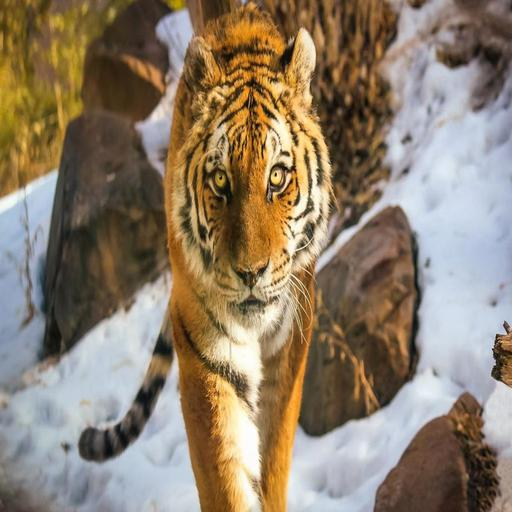Tiger: (69, 5, 359, 512)
